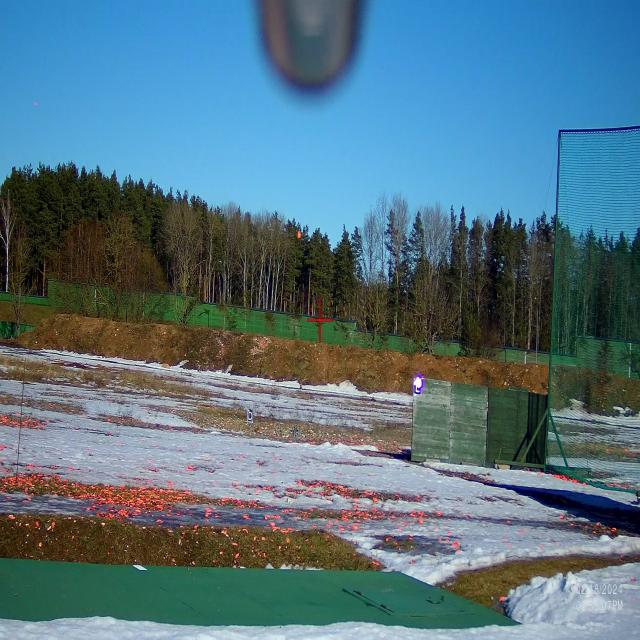entire: (290, 227, 306, 244)
